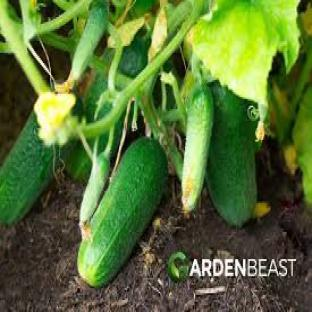Cucumber: (78, 139, 167, 286), (207, 84, 257, 226), (0, 113, 58, 225), (182, 84, 214, 213), (80, 154, 110, 226), (84, 74, 107, 122)
